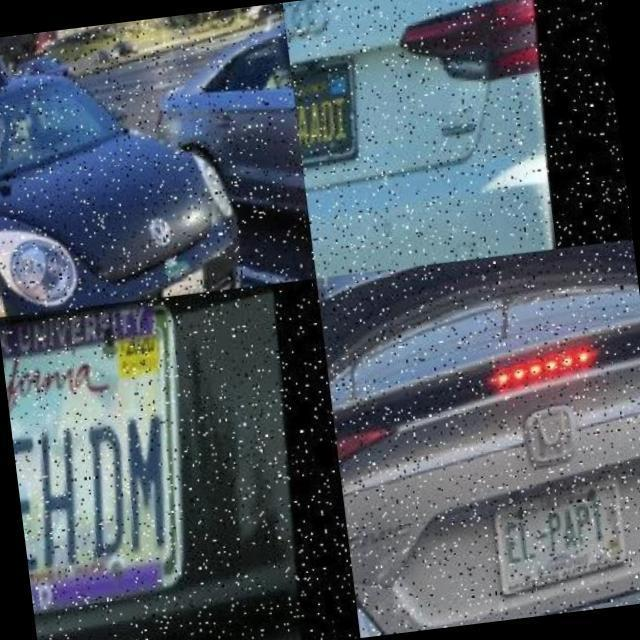License Plate: (1, 296, 200, 632), (496, 482, 631, 599), (289, 59, 366, 178)
